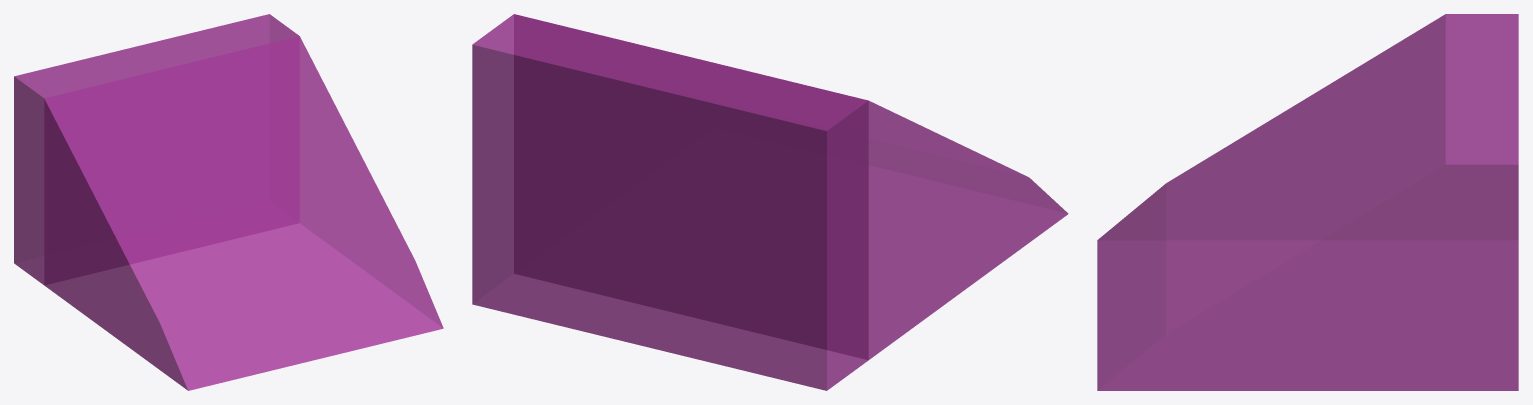
The model's file is SM_Env_Stone_Stairs_01_Collision.fbx.
3 renders of one model, left to right at view 1: azimuth 30°, elevation 25°; view 2: azimuth 150°, elevation 25°; view 3: azimuth 270°, elevation 25°, orthographic. The views are drawn at different scales.
Visible parts, largest first — view 1: SM_Env_Stone_Stairs_01_Collision; view 2: SM_Env_Stone_Stairs_01_Collision; view 3: SM_Env_Stone_Stairs_01_Collision.
Boxes of the visible parts, x1,y1,x2,y2 form: SM_Env_Stone_Stairs_01_Collision: [14, 14, 443, 390]; SM_Env_Stone_Stairs_01_Collision: [472, 14, 1068, 390]; SM_Env_Stone_Stairs_01_Collision: [1097, 14, 1518, 390].
Bounding box in the file's own units: 244 × 170 × 288.
